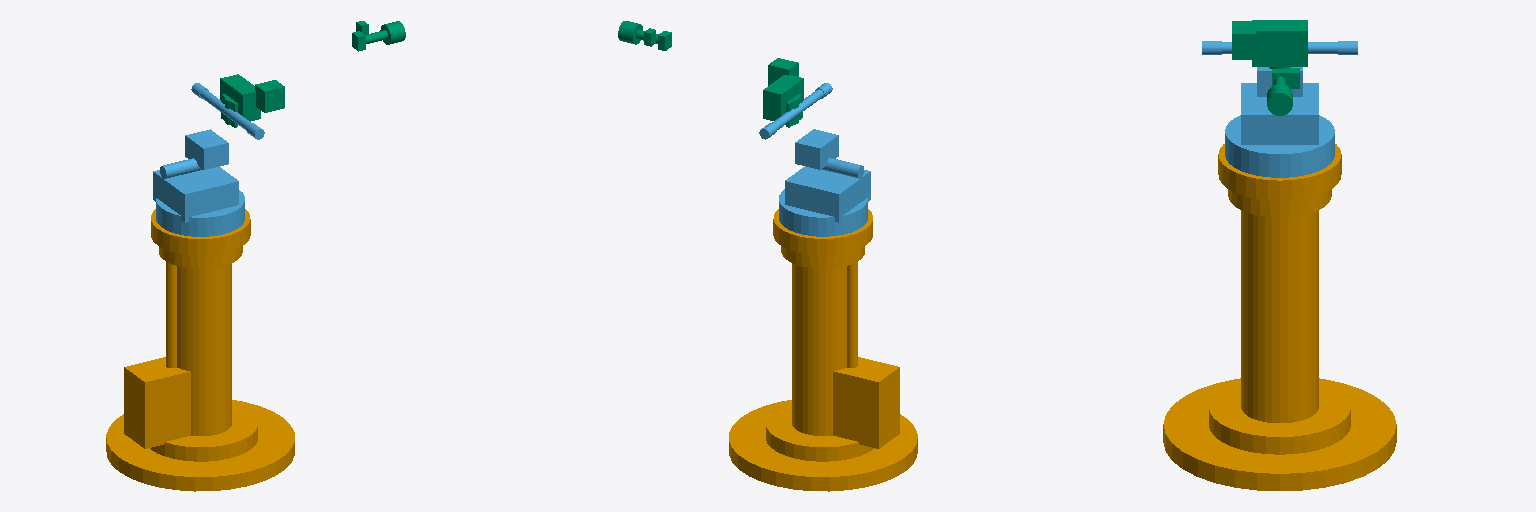
robot.urdf — satellite_dish_terminal:
<robot name="satellite_dish_terminal">
  <link name="pedestal">
    <inertial>
      <origin xyz="0 0 0.51" rpy="0 0 0" />
      <mass value="92" />
      <inertia ixx="11.9508" ixy="0" ixz="0" iyy="11.9508" iyz="0" izz="7.9488" />
    </inertial>
    <visual>
      <origin xyz="0 0 0.03" rpy="0 0 0" />
      <geometry>
        <cylinder radius="0.36" length="0.06" />
      </geometry>
    </visual>
    <visual>
      <origin xyz="0 0 0.09" rpy="0 0 0" />
      <geometry>
        <cylinder radius="0.22" length="0.06" />
      </geometry>
    </visual>
    <visual>
      <origin xyz="0 0 0.48" rpy="0 0 0" />
      <geometry>
        <cylinder radius="0.12" length="0.72" />
      </geometry>
    </visual>
    <visual>
      <origin xyz="0 0 0.89" rpy="0 0 0" />
      <geometry>
        <cylinder radius="0.16" length="0.1" />
      </geometry>
    </visual>
    <visual>
      <origin xyz="0 0 0.945" rpy="0 0 0" />
      <geometry>
        <cylinder radius="0.19" length="0.07" />
      </geometry>
    </visual>
    <visual>
      <origin xyz="-0.18 0 0.25" rpy="0 0 0" />
      <geometry>
        <box size="0.22 0.16 0.28" />
      </geometry>
    </visual>
    <visual>
      <origin xyz="-0.125 0 0.59" rpy="0 0 0" />
      <geometry>
        <cylinder radius="0.025" length="0.52" />
      </geometry>
    </visual>
    <collision name="pedestal__visual_1">
      <origin xyz="0 0 0.03" rpy="0 0 0" />
      <geometry>
        <cylinder radius="0.36" length="0.06" />
      </geometry>
    </collision>
    <collision name="pedestal__visual_2">
      <origin xyz="0 0 0.09" rpy="0 0 0" />
      <geometry>
        <cylinder radius="0.22" length="0.06" />
      </geometry>
    </collision>
    <collision name="pedestal__visual_3">
      <origin xyz="0 0 0.48" rpy="0 0 0" />
      <geometry>
        <cylinder radius="0.12" length="0.72" />
      </geometry>
    </collision>
    <collision name="pedestal__visual_4">
      <origin xyz="0 0 0.89" rpy="0 0 0" />
      <geometry>
        <cylinder radius="0.16" length="0.1" />
      </geometry>
    </collision>
    <collision name="pedestal__visual_5">
      <origin xyz="0 0 0.945" rpy="0 0 0" />
      <geometry>
        <cylinder radius="0.19" length="0.07" />
      </geometry>
    </collision>
    <collision name="pedestal__visual_6">
      <origin xyz="-0.18 0 0.25" rpy="0 0 0" />
      <geometry>
        <box size="0.22 0.16 0.28" />
      </geometry>
    </collision>
    <collision name="pedestal__visual_7">
      <origin xyz="-0.125 0 0.59" rpy="0 0 0" />
      <geometry>
        <cylinder radius="0.025" length="0.52" />
      </geometry>
    </collision>
  </link>
  <link name="azimuth_stage">
    <inertial>
      <origin xyz="0.02 0 0.24" rpy="0 0 0" />
      <mass value="18" />
      <inertia ixx="0.7548" ixy="0" ixz="0" iyy="0.7278" iyz="0" izz="0.6078" />
    </inertial>
    <visual>
      <origin xyz="0 0 0.04" rpy="0 0 0" />
      <geometry>
        <cylinder radius="0.17" length="0.08" />
      </geometry>
    </visual>
    <visual>
      <origin xyz="-0.02 0 0.12" rpy="0 0 0" />
      <geometry>
        <box size="0.24 0.24 0.12" />
      </geometry>
    </visual>
    <visual>
      <origin xyz="0.12 0 0.42" rpy="-1.5708 0 0" />
      <geometry>
        <cylinder radius="0.018" length="0.36" />
      </geometry>
    </visual>
    <visual>
      <origin xyz="0.12 0.21 0.42" rpy="-1.5708 0 0" />
      <geometry>
        <cylinder radius="0.022" length="0.06" />
      </geometry>
    </visual>
    <visual>
      <origin xyz="0.12 -0.21 0.42" rpy="-1.5708 0 0" />
      <geometry>
        <cylinder radius="0.022" length="0.06" />
      </geometry>
    </visual>
    <visual>
      <geometry>
        <mesh filename="meshes/yoke_arms.glb" />
      </geometry>
    </visual>
    <visual>
      <origin xyz="0.028 0 0.28" rpy="0 0 0" />
      <geometry>
        <box size="0.11 0.14 0.09" />
      </geometry>
    </visual>
    <visual>
      <origin xyz="-0.055 0 0.23" rpy="0 1.5708 0" />
      <geometry>
        <cylinder radius="0.026" length="0.22" />
      </geometry>
    </visual>
    <collision name="azimuth_stage__visual_1">
      <origin xyz="0 0 0.04" rpy="0 0 0" />
      <geometry>
        <cylinder radius="0.17" length="0.08" />
      </geometry>
    </collision>
    <collision name="azimuth_stage__visual_2">
      <origin xyz="-0.02 0 0.12" rpy="0 0 0" />
      <geometry>
        <box size="0.24 0.24 0.12" />
      </geometry>
    </collision>
    <collision name="azimuth_stage__visual_3">
      <origin xyz="0.12 0 0.42" rpy="-1.5708 0 0" />
      <geometry>
        <cylinder radius="0.018" length="0.36" />
      </geometry>
    </collision>
    <collision name="azimuth_stage__visual_4">
      <origin xyz="0.12 0.21 0.42" rpy="-1.5708 0 0" />
      <geometry>
        <cylinder radius="0.022" length="0.06" />
      </geometry>
    </collision>
    <collision name="azimuth_stage__visual_5">
      <origin xyz="0.12 -0.21 0.42" rpy="-1.5708 0 0" />
      <geometry>
        <cylinder radius="0.022" length="0.06" />
      </geometry>
    </collision>
    <collision name="azimuth_stage__visual_6__hull_001">
      <geometry>
        <mesh filename="meshes/collision/cache/509f8cf1da6818aefb69eea6__hull_001.obj" />
      </geometry>
    </collision>
    <collision name="azimuth_stage__visual_6__hull_002">
      <geometry>
        <mesh filename="meshes/collision/cache/509f8cf1da6818aefb69eea6__hull_002.obj" />
      </geometry>
    </collision>
    <collision name="azimuth_stage__visual_6__hull_003">
      <geometry>
        <mesh filename="meshes/collision/cache/509f8cf1da6818aefb69eea6__hull_003.obj" />
      </geometry>
    </collision>
    <collision name="azimuth_stage__visual_6__hull_004">
      <geometry>
        <mesh filename="meshes/collision/cache/509f8cf1da6818aefb69eea6__hull_004.obj" />
      </geometry>
    </collision>
    <collision name="azimuth_stage__visual_7">
      <origin xyz="0.028 0 0.28" rpy="0 0 0" />
      <geometry>
        <box size="0.11 0.14 0.09" />
      </geometry>
    </collision>
    <collision name="azimuth_stage__visual_8">
      <origin xyz="-0.055 0 0.23" rpy="0 1.5708 0" />
      <geometry>
        <cylinder radius="0.026" length="0.22" />
      </geometry>
    </collision>
  </link>
  <link name="dish_assembly">
    <inertial>
      <origin xyz="0.3 0 0.16" rpy="0 0 0" />
      <mass value="13" />
      <inertia ixx="1.33337" ixy="0" ixz="0" iyy="1.49977" iyz="0" izz="2.00027" />
    </inertial>
    <visual>
      <origin xyz="0.28 0 0.16" rpy="0 1.5708 0" />
      <geometry>
        <mesh filename="meshes/reflector_shell.glb" />
      </geometry>
    </visual>
    <visual>
      <origin xyz="0.008 0 0" rpy="0 0 0" />
      <geometry>
        <box size="0.016 0.1 0.1" />
      </geometry>
    </visual>
    <visual>
      <origin xyz="0.055 0 0.04" rpy="0 0 0" />
      <geometry>
        <box size="0.08 0.17 0.12" />
      </geometry>
    </visual>
    <visual>
      <origin xyz="0.026 0 0" rpy="0 0 0" />
      <geometry>
        <cylinder radius="0.035" length="0.1" />
      </geometry>
    </visual>
    <visual>
      <geometry>
        <mesh filename="meshes/dish_supports.glb" />
      </geometry>
    </visual>
    <visual>
      <origin xyz="0.575 0 0.16" rpy="0 0 0" />
      <geometry>
        <box size="0.032 0.048 0.06" />
      </geometry>
    </visual>
    <visual>
      <origin xyz="0.645 0 0.16" rpy="0 1.5708 0" />
      <geometry>
        <cylinder radius="0.018" length="0.12" />
      </geometry>
    </visual>
    <visual>
      <origin xyz="0.725 0 0.16" rpy="0 1.5708 0" />
      <geometry>
        <cylinder radius="0.04" length="0.065" />
      </geometry>
    </visual>
    <visual>
      <origin xyz="0.615 0.042 0.182" rpy="0 0 0" />
      <geometry>
        <box size="0.03 0.04 0.055" />
      </geometry>
    </visual>
    <visual>
      <origin xyz="0.12 -0.112 0.08" rpy="0 0 0" />
      <geometry>
        <box size="0.09 0.074 0.09" />
      </geometry>
    </visual>
    <collision name="dish_assembly__visual_1__hull_001">
      <origin xyz="0.28 0 0.16" rpy="0 1.5708 0" />
      <geometry>
        <mesh filename="meshes/collision/cache/a70d1db5ba12bd3d43b754e3__hull_001.obj" />
      </geometry>
    </collision>
    <collision name="dish_assembly__visual_1__hull_002">
      <origin xyz="0.28 0 0.16" rpy="0 1.5708 0" />
      <geometry>
        <mesh filename="meshes/collision/cache/a70d1db5ba12bd3d43b754e3__hull_002.obj" />
      </geometry>
    </collision>
    <collision name="dish_assembly__visual_1__hull_003">
      <origin xyz="0.28 0 0.16" rpy="0 1.5708 0" />
      <geometry>
        <mesh filename="meshes/collision/cache/a70d1db5ba12bd3d43b754e3__hull_003.obj" />
      </geometry>
    </collision>
    <collision name="dish_assembly__visual_1__hull_004">
      <origin xyz="0.28 0 0.16" rpy="0 1.5708 0" />
      <geometry>
        <mesh filename="meshes/collision/cache/a70d1db5ba12bd3d43b754e3__hull_004.obj" />
      </geometry>
    </collision>
    <collision name="dish_assembly__visual_1__hull_005">
      <origin xyz="0.28 0 0.16" rpy="0 1.5708 0" />
      <geometry>
        <mesh filename="meshes/collision/cache/a70d1db5ba12bd3d43b754e3__hull_005.obj" />
      </geometry>
    </collision>
    <collision name="dish_assembly__visual_1__hull_006">
      <origin xyz="0.28 0 0.16" rpy="0 1.5708 0" />
      <geometry>
        <mesh filename="meshes/collision/cache/a70d1db5ba12bd3d43b754e3__hull_006.obj" />
      </geometry>
    </collision>
    <collision name="dish_assembly__visual_1__hull_007">
      <origin xyz="0.28 0 0.16" rpy="0 1.5708 0" />
      <geometry>
        <mesh filename="meshes/collision/cache/a70d1db5ba12bd3d43b754e3__hull_007.obj" />
      </geometry>
    </collision>
    <collision name="dish_assembly__visual_1__hull_008">
      <origin xyz="0.28 0 0.16" rpy="0 1.5708 0" />
      <geometry>
        <mesh filename="meshes/collision/cache/a70d1db5ba12bd3d43b754e3__hull_008.obj" />
      </geometry>
    </collision>
    <collision name="dish_assembly__visual_1__hull_009">
      <origin xyz="0.28 0 0.16" rpy="0 1.5708 0" />
      <geometry>
        <mesh filename="meshes/collision/cache/a70d1db5ba12bd3d43b754e3__hull_009.obj" />
      </geometry>
    </collision>
    <collision name="dish_assembly__visual_1__hull_010">
      <origin xyz="0.28 0 0.16" rpy="0 1.5708 0" />
      <geometry>
        <mesh filename="meshes/collision/cache/a70d1db5ba12bd3d43b754e3__hull_010.obj" />
      </geometry>
    </collision>
    <collision name="dish_assembly__visual_2">
      <origin xyz="0.008 0 0" rpy="0 0 0" />
      <geometry>
        <box size="0.016 0.1 0.1" />
      </geometry>
    </collision>
    <collision name="dish_assembly__visual_3">
      <origin xyz="0.055 0 0.04" rpy="0 0 0" />
      <geometry>
        <box size="0.08 0.17 0.12" />
      </geometry>
    </collision>
    <collision name="dish_assembly__visual_4">
      <origin xyz="0.026 0 0" rpy="0 0 0" />
      <geometry>
        <cylinder radius="0.035" length="0.1" />
      </geometry>
    </collision>
    <collision name="dish_assembly__visual_5__hull_001">
      <geometry>
        <mesh filename="meshes/collision/cache/fc3d3b5e5c088ad7fb869eba__hull_001.obj" />
      </geometry>
    </collision>
    <collision name="dish_assembly__visual_5__hull_002">
      <geometry>
        <mesh filename="meshes/collision/cache/fc3d3b5e5c088ad7fb869eba__hull_002.obj" />
      </geometry>
    </collision>
    <collision name="dish_assembly__visual_5__hull_003">
      <geometry>
        <mesh filename="meshes/collision/cache/fc3d3b5e5c088ad7fb869eba__hull_003.obj" />
      </geometry>
    </collision>
    <collision name="dish_assembly__visual_5__hull_004">
      <geometry>
        <mesh filename="meshes/collision/cache/fc3d3b5e5c088ad7fb869eba__hull_004.obj" />
      </geometry>
    </collision>
    <collision name="dish_assembly__visual_5__hull_005">
      <geometry>
        <mesh filename="meshes/collision/cache/fc3d3b5e5c088ad7fb869eba__hull_005.obj" />
      </geometry>
    </collision>
    <collision name="dish_assembly__visual_5__hull_006">
      <geometry>
        <mesh filename="meshes/collision/cache/fc3d3b5e5c088ad7fb869eba__hull_006.obj" />
      </geometry>
    </collision>
    <collision name="dish_assembly__visual_5__hull_007">
      <geometry>
        <mesh filename="meshes/collision/cache/fc3d3b5e5c088ad7fb869eba__hull_007.obj" />
      </geometry>
    </collision>
    <collision name="dish_assembly__visual_5__hull_008">
      <geometry>
        <mesh filename="meshes/collision/cache/fc3d3b5e5c088ad7fb869eba__hull_008.obj" />
      </geometry>
    </collision>
    <collision name="dish_assembly__visual_5__hull_009">
      <geometry>
        <mesh filename="meshes/collision/cache/fc3d3b5e5c088ad7fb869eba__hull_009.obj" />
      </geometry>
    </collision>
    <collision name="dish_assembly__visual_5__hull_010">
      <geometry>
        <mesh filename="meshes/collision/cache/fc3d3b5e5c088ad7fb869eba__hull_010.obj" />
      </geometry>
    </collision>
    <collision name="dish_assembly__visual_5__hull_011">
      <geometry>
        <mesh filename="meshes/collision/cache/fc3d3b5e5c088ad7fb869eba__hull_011.obj" />
      </geometry>
    </collision>
    <collision name="dish_assembly__visual_5__hull_012">
      <geometry>
        <mesh filename="meshes/collision/cache/fc3d3b5e5c088ad7fb869eba__hull_012.obj" />
      </geometry>
    </collision>
    <collision name="dish_assembly__visual_5__hull_013">
      <geometry>
        <mesh filename="meshes/collision/cache/fc3d3b5e5c088ad7fb869eba__hull_013.obj" />
      </geometry>
    </collision>
    <collision name="dish_assembly__visual_5__hull_014">
      <geometry>
        <mesh filename="meshes/collision/cache/fc3d3b5e5c088ad7fb869eba__hull_014.obj" />
      </geometry>
    </collision>
    <collision name="dish_assembly__visual_5__hull_015">
      <geometry>
        <mesh filename="meshes/collision/cache/fc3d3b5e5c088ad7fb869eba__hull_015.obj" />
      </geometry>
    </collision>
    <collision name="dish_assembly__visual_6">
      <origin xyz="0.575 0 0.16" rpy="0 0 0" />
      <geometry>
        <box size="0.032 0.048 0.06" />
      </geometry>
    </collision>
    <collision name="dish_assembly__visual_7">
      <origin xyz="0.645 0 0.16" rpy="0 1.5708 0" />
      <geometry>
        <cylinder radius="0.018" length="0.12" />
      </geometry>
    </collision>
    <collision name="dish_assembly__visual_8">
      <origin xyz="0.725 0 0.16" rpy="0 1.5708 0" />
      <geometry>
        <cylinder radius="0.04" length="0.065" />
      </geometry>
    </collision>
    <collision name="dish_assembly__visual_9">
      <origin xyz="0.615 0.042 0.182" rpy="0 0 0" />
      <geometry>
        <box size="0.03 0.04 0.055" />
      </geometry>
    </collision>
    <collision name="dish_assembly__visual_10">
      <origin xyz="0.12 -0.112 0.08" rpy="0 0 0" />
      <geometry>
        <box size="0.09 0.074 0.09" />
      </geometry>
    </collision>
  </link>
  <joint name="azimuth_slew" type="revolute">
    <origin xyz="0 0 0.98" rpy="0 0 0" />
    <parent link="pedestal" />
    <child link="azimuth_stage" />
    <axis xyz="0 0 1" />
    <limit effort="80" velocity="1.4" lower="-2.35" upper="2.35" />
  </joint>
  <joint name="elevation_tilt" type="revolute">
    <origin xyz="0.12 0 0.42" rpy="0 0 0" />
    <parent link="azimuth_stage" />
    <child link="dish_assembly" />
    <axis xyz="0 -1 0" />
    <limit effort="35" velocity="1.3" lower="-0.15" upper="0.95" />
  </joint>
</robot>

--- What the picture shows (computed from the rendered views, not written in the file) ---
3 views of the same robot in one strip: view 1: azimuth 30°, elevation 25°; view 2: azimuth 150°, elevation 25°; view 3: azimuth 270°, elevation 25° (orthographic).
Model satellite_dish_terminal with 3 links and 2 joints (2 revolute), rooted at pedestal, posed all joints at 0.
Links seen in each view (by area): view 1: pedestal, azimuth_stage, dish_assembly; view 2: pedestal, azimuth_stage, dish_assembly; view 3: pedestal, azimuth_stage, dish_assembly.
Link boxes in pixels (box(x1,y1,x2,y2)): pedestal: box(106, 209, 294, 491); azimuth_stage: box(153, 83, 264, 236); dish_assembly: box(220, 21, 405, 127); pedestal: box(729, 209, 917, 491); azimuth_stage: box(759, 83, 870, 236); dish_assembly: box(618, 21, 803, 127); pedestal: box(1163, 144, 1396, 490); azimuth_stage: box(1202, 41, 1357, 177); dish_assembly: box(1232, 20, 1307, 115).
Size in the robot's own frame: 1.24 by 0.72 by 1.61 metres.
Meshes: 3 distinct files referenced, 0 mesh visuals loaded (none loaded); not drawn: 3 (reference not matched to a file when rendering).
